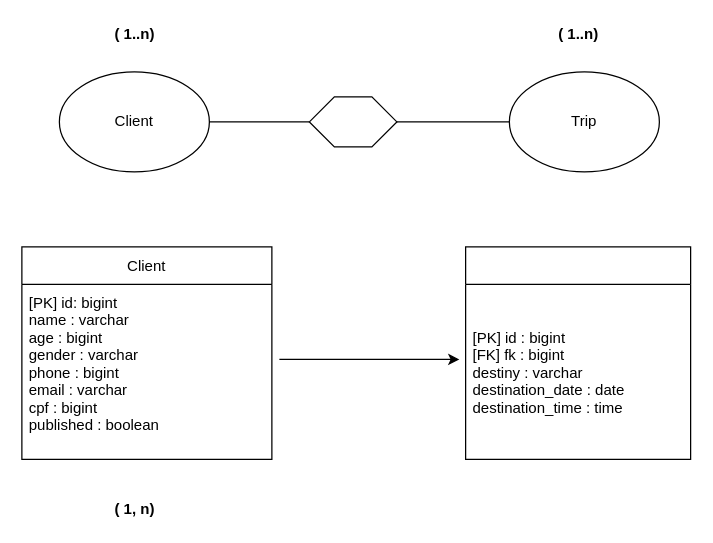
This 713x543 diagram has some shape labels left out. The shapes that lost their labels are listed below. From the top down, each one's box as (x1, y1, x2, y2) in pixels, then its label:
(308, 96, 397, 147): will do
(464, 246, 691, 459): Trips
